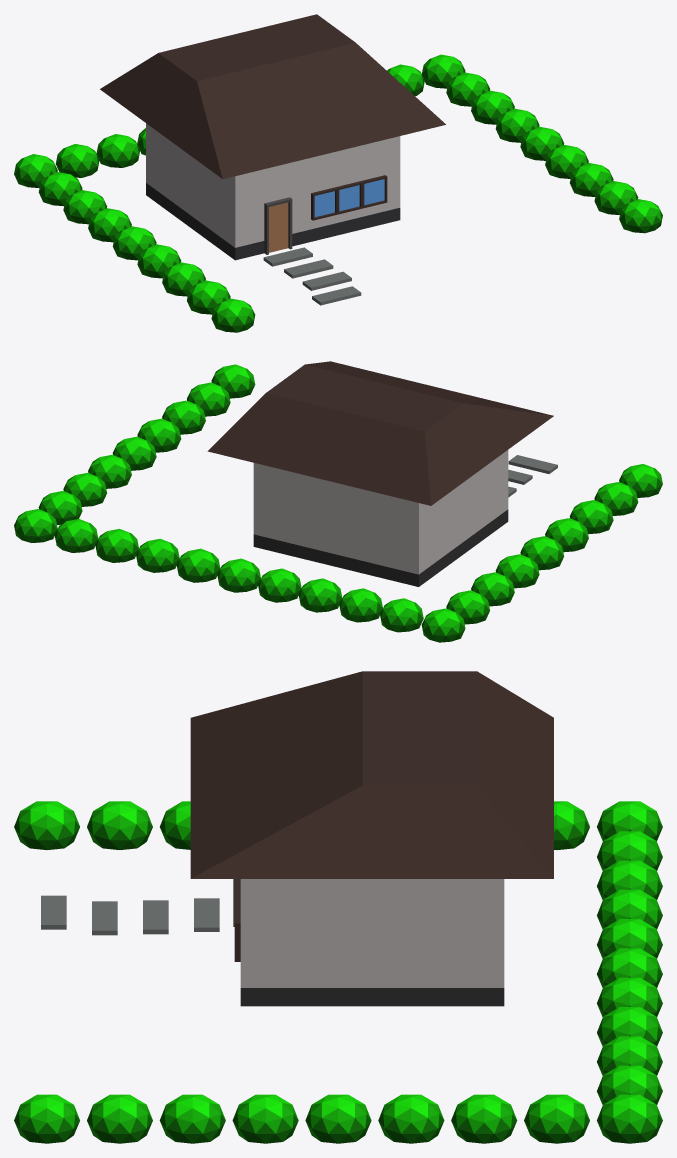
File: production_house.glb
3 renders of one model, top to bottom at view 1: azimuth 30°, elevation 25°; view 2: azimuth 150°, elevation 25°; view 3: azimuth 270°, elevation 25°, orthographic. The views are drawn at different scales.
Visible parts, largest first — view 1: Cube.023; view 2: Cube.023; view 3: Cube.023.
Boxes of the visible parts, x1=… form: Cube.023: x1=14, y1=14, x2=662, y2=332; Cube.023: x1=14, y1=361, x2=662, y2=642; Cube.023: x1=14, y1=671, x2=662, y2=1143.
Bounding box in the file's own units: 2.3 × 0.7315 × 1.97.
